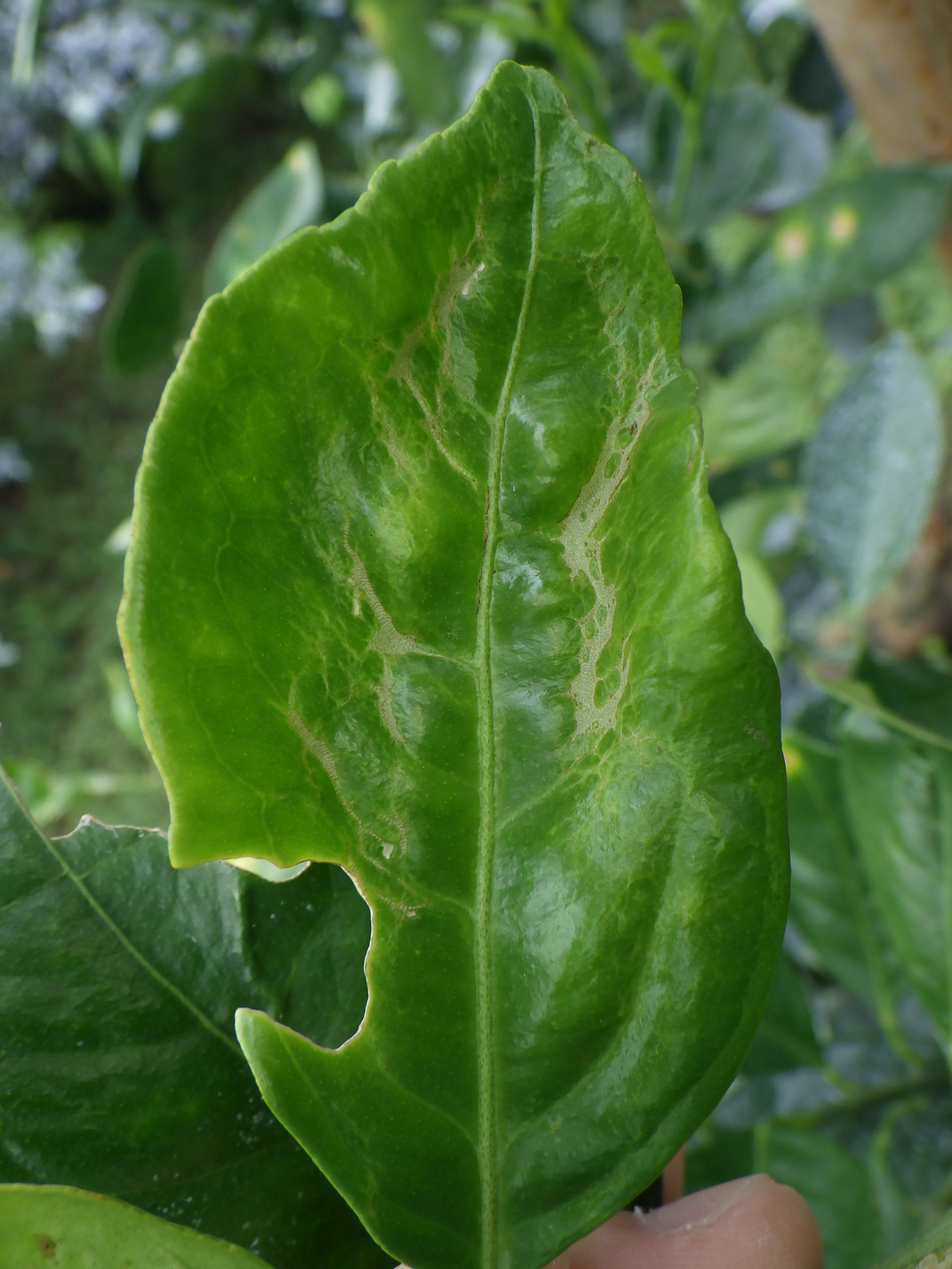Thrips_Damage: (345, 358, 656, 737)
